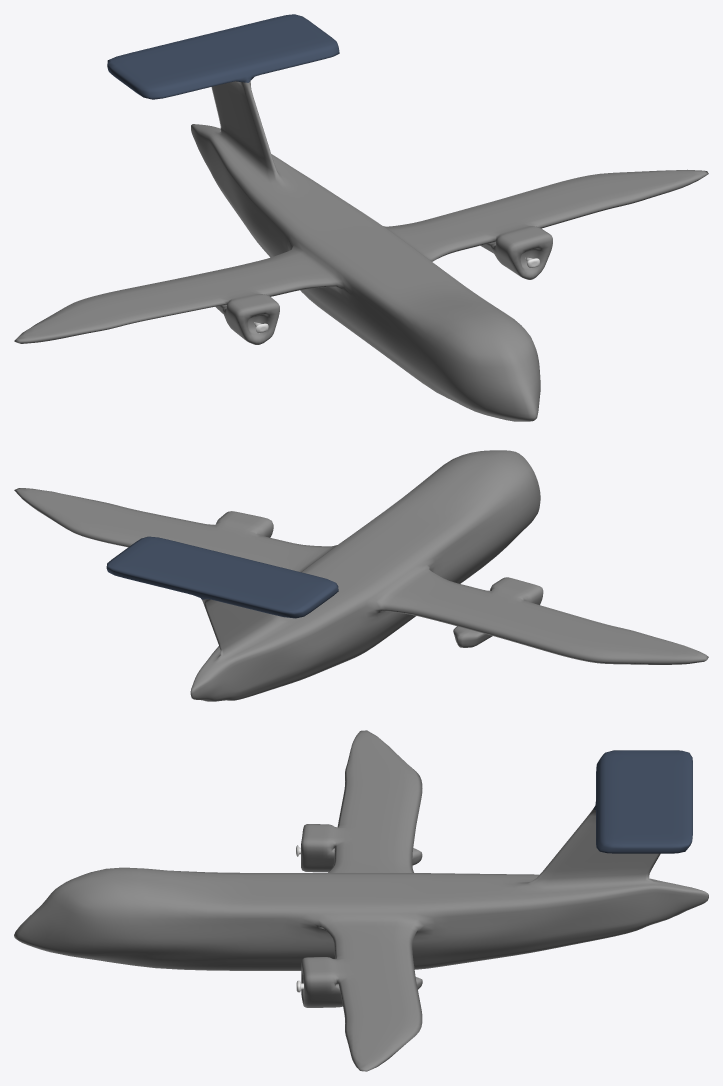
3 renders of one model, top to bottom at view 1: azimuth 30°, elevation 25°; view 2: azimuth 150°, elevation 25°; view 3: azimuth 270°, elevation 25°, orthographic.
Visible parts, largest first — view 1: Cube; view 2: Cube; view 3: Cube.
Boxes of the visible parts, x1,y1,x2,y2 form: Cube: (14, 14, 708, 421); Cube: (14, 450, 708, 701); Cube: (14, 730, 708, 1071).
Bounding box in the file's own units: 9.48 × 2.1 × 8.15.
